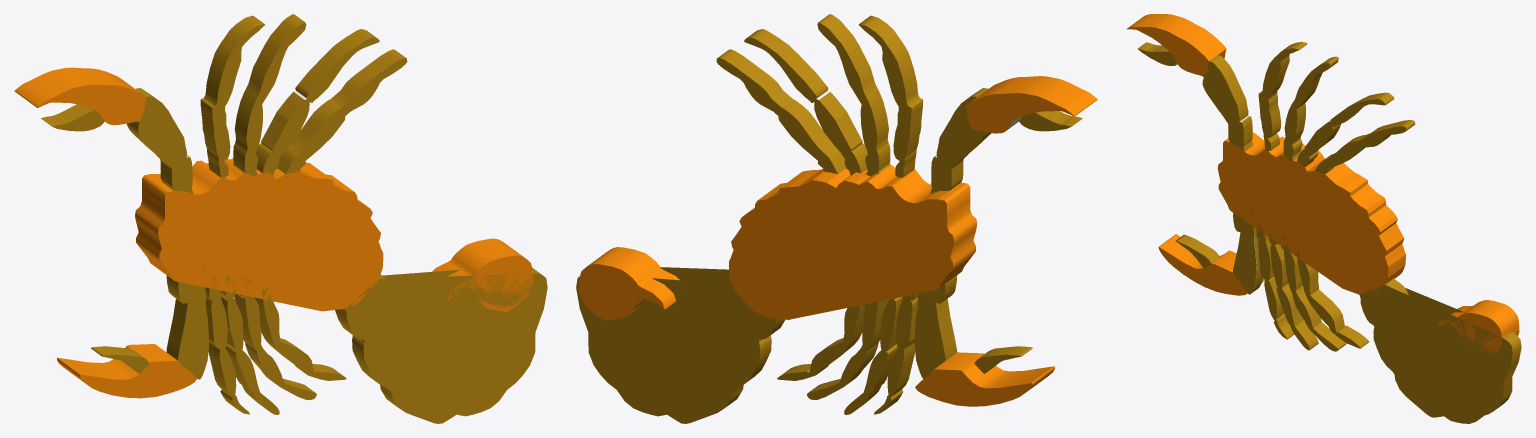
Rendered from scorpio.obj.
3 renders of one model, left to right at view 1: azimuth 30°, elevation 25°; view 2: azimuth 150°, elevation 25°; view 3: azimuth 330°, elevation 25°, orthographic. The views are drawn at different scales.
Parts seen in each view (by area): view 1: scorpio; view 2: scorpio; view 3: scorpio.
Part boxes in pixels (box(x1,y1,x2,y2)): scorpio: box(14, 14, 547, 423); scorpio: box(576, 14, 1097, 423); scorpio: box(1127, 14, 1521, 423).
Bounding box in the file's own units: 3.16 × 2.62 × 0.2481.
